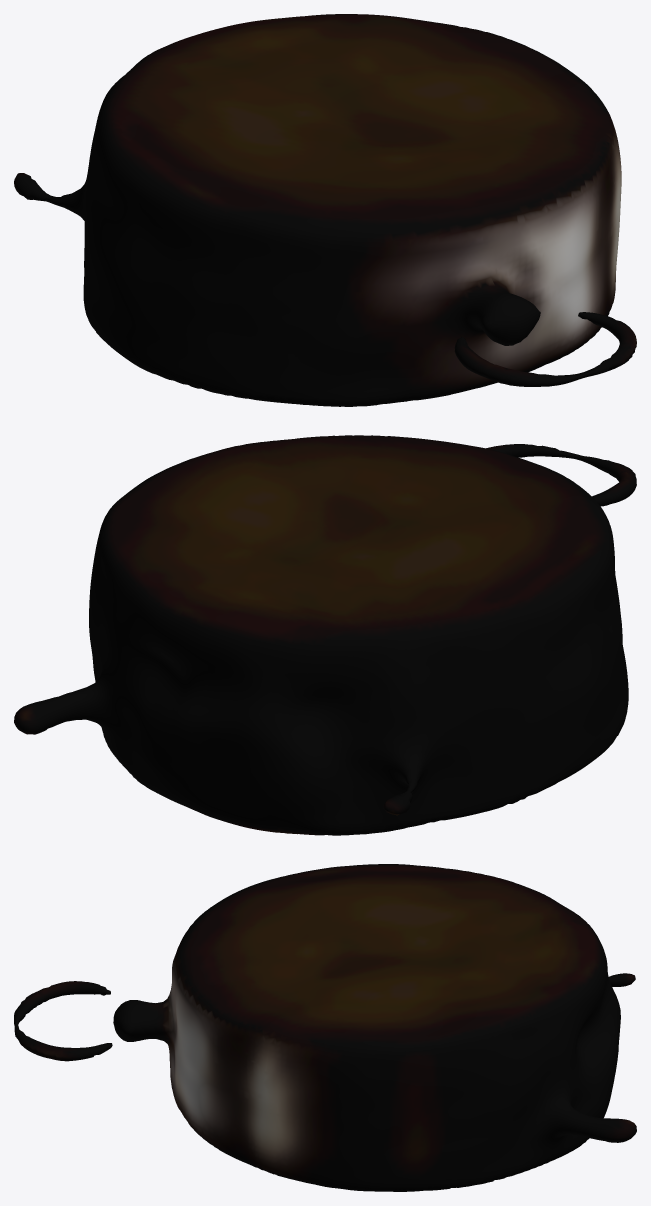
The model's file is alarm.glb.
The picture shows the model from 3 angles, top to bottom: view 1: azimuth 30°, elevation 25°; view 2: azimuth 150°, elevation 25°; view 3: azimuth 270°, elevation 25°; orthographic projection. The views are drawn at different scales.
Bounding box in the file's own units: 0.7133 × 0.2998 × 0.9967.
